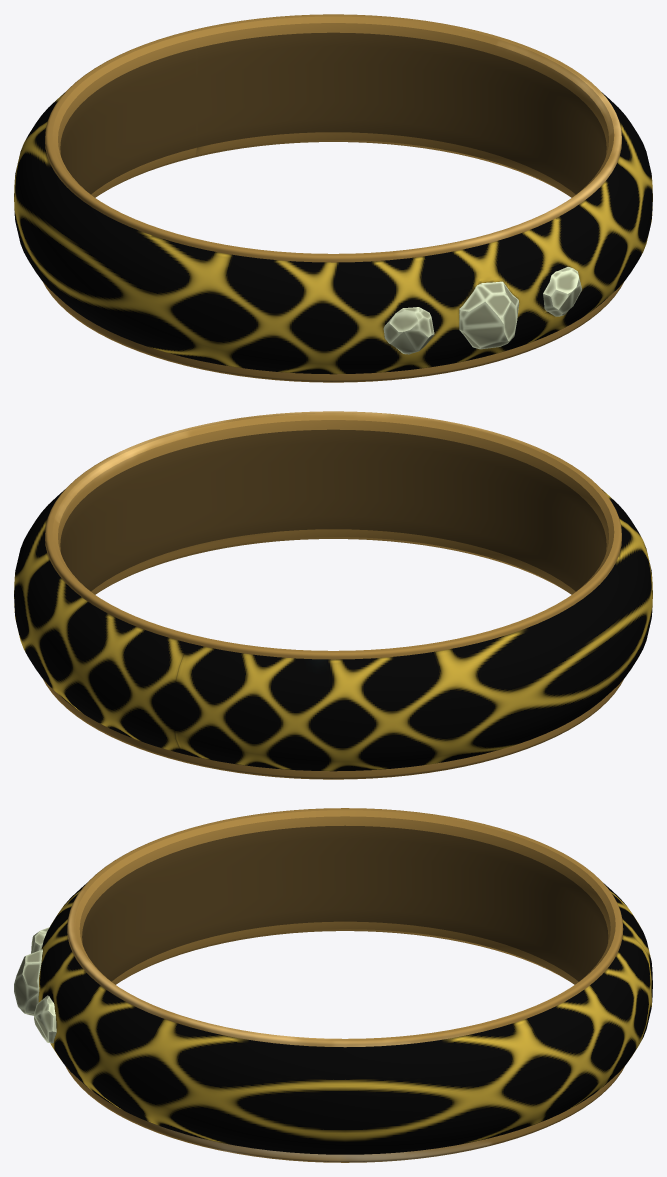
Rendered from anillo.glb.
3 renders of one model, top to bottom at view 1: azimuth 30°, elevation 25°; view 2: azimuth 150°, elevation 25°; view 3: azimuth 270°, elevation 25°, orthographic. The views are drawn at different scales.
Visible parts, largest first — view 1: Object_2; view 2: Object_2; view 3: Object_2.
Part boxes in pixels (x1,y1,x2,y2): Object_2: [14, 14, 652, 382]; Object_2: [14, 411, 652, 779]; Object_2: [14, 808, 652, 1162].
Bounding box in the file's own units: 2.22 × 0.4805 × 2.3.
Materials: 1 (1 with a texture image).
